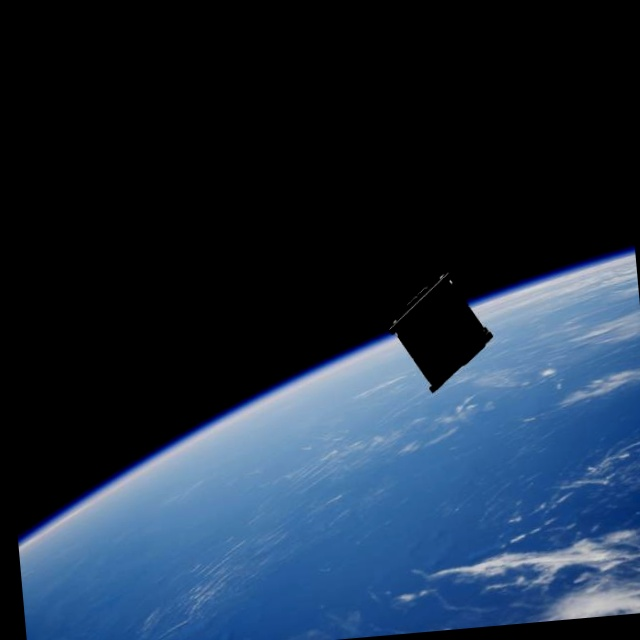satellite: (385, 263, 499, 396)
